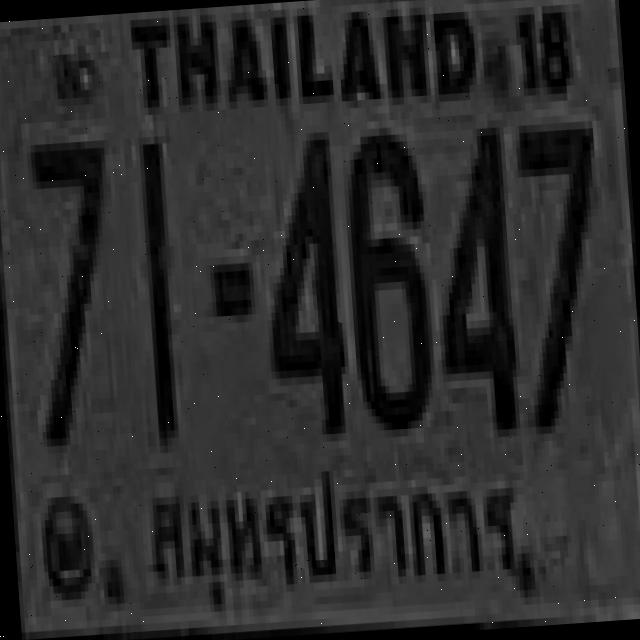1: (134, 136, 178, 438)
4: (425, 120, 516, 433), (256, 128, 347, 434)
6: (340, 125, 434, 424)
7: (23, 136, 122, 442), (511, 117, 608, 423)
SamutPrakan: (139, 432, 530, 618)
